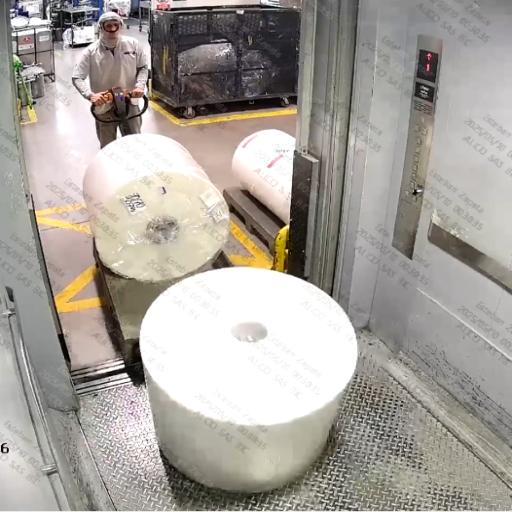rollos caidos: (49, 72, 395, 512)
